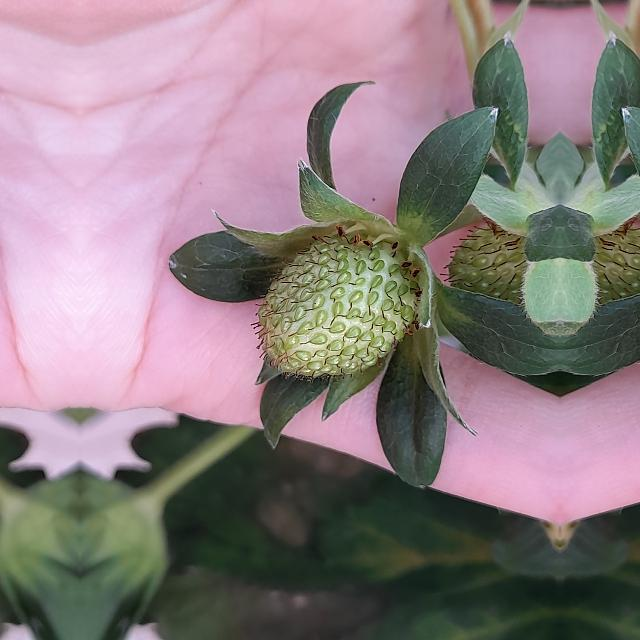Health_25: (250, 225, 422, 383)
